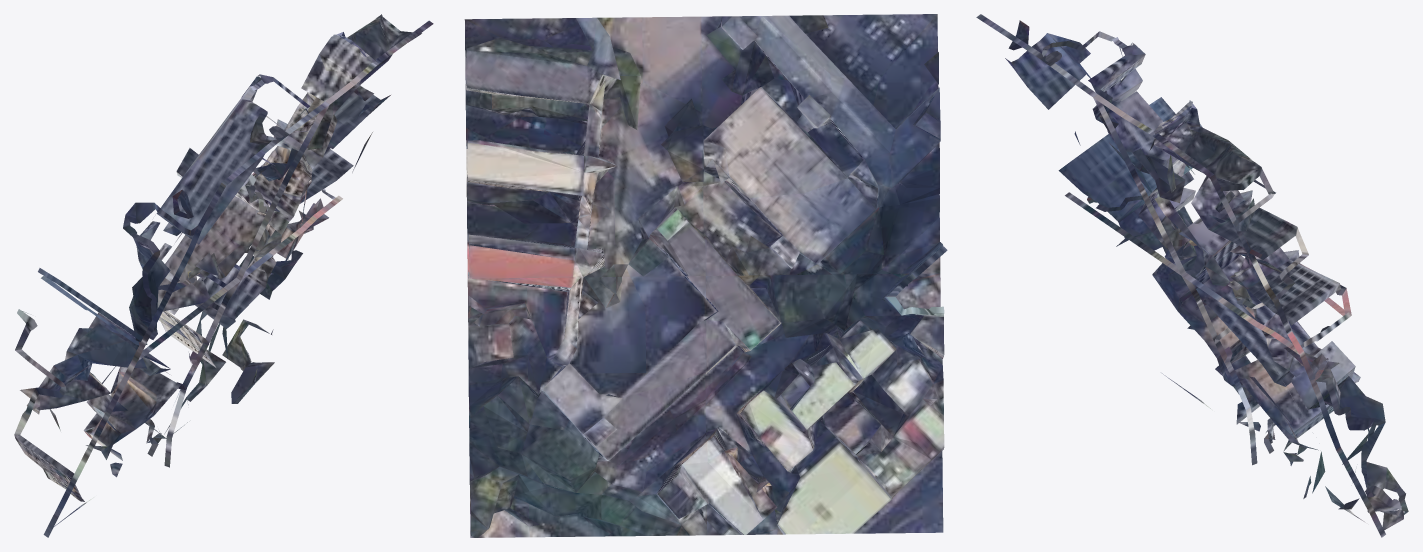
3 renders of one model, left to right at view 1: azimuth 30°, elevation 25°; view 2: azimuth 150°, elevation 25°; view 3: azimuth 270°, elevation 25°, orthographic. The views are drawn at different scales.
Size of the model in its own units: 158 by 151 by 134.
1 material, 1 textured.
